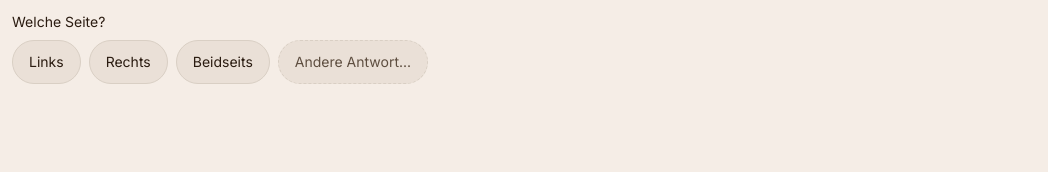
Test: ClarificationInline › zeigt Freitext-Input nach Klick auf "Andere Antwort..."
Click the button "Andere Antwort..." at [353, 62], box x1=278 y1=40 x2=428 y2=84
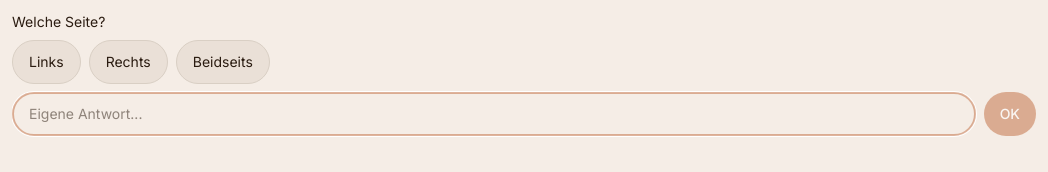
Now the field with placeholder "Eigene Antwort..." is shown, box x1=12 y1=92 x2=976 y2=136
